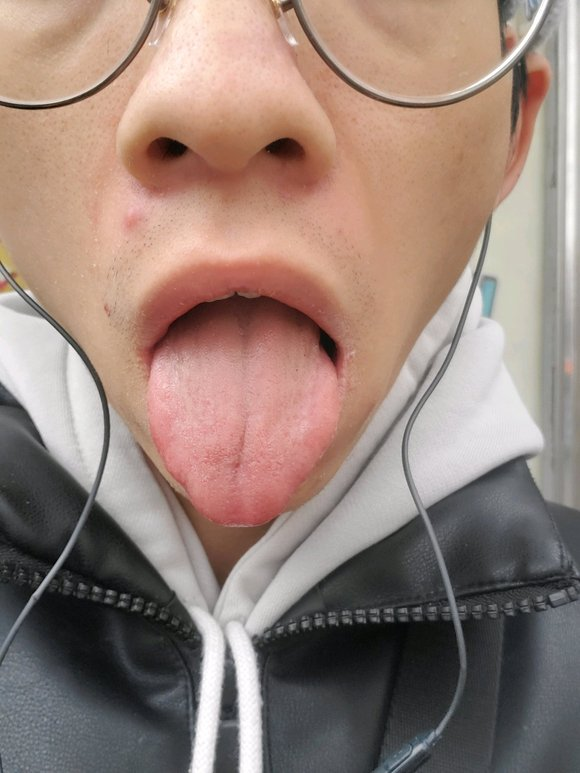baitaishe: (148, 298, 338, 526)
liewenshe: (233, 423, 249, 472)
pangdashe: (148, 298, 338, 526)
